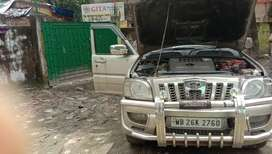WB26K2760: (170, 117, 221, 127)
